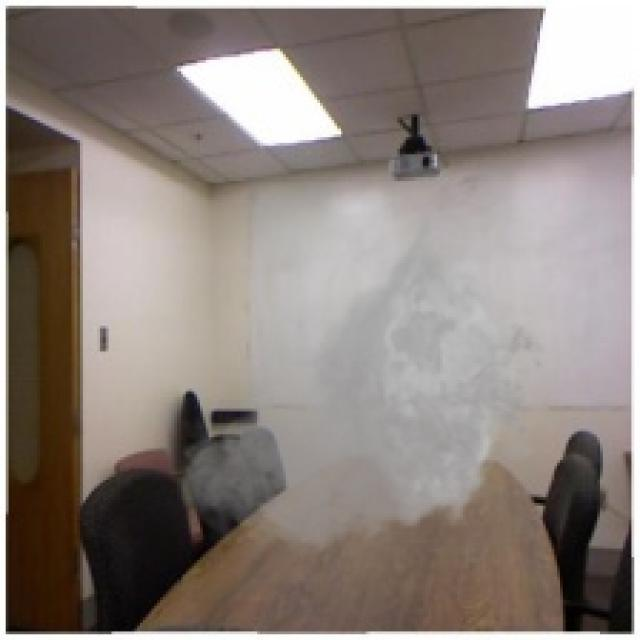smoke: (171, 197, 560, 566)
